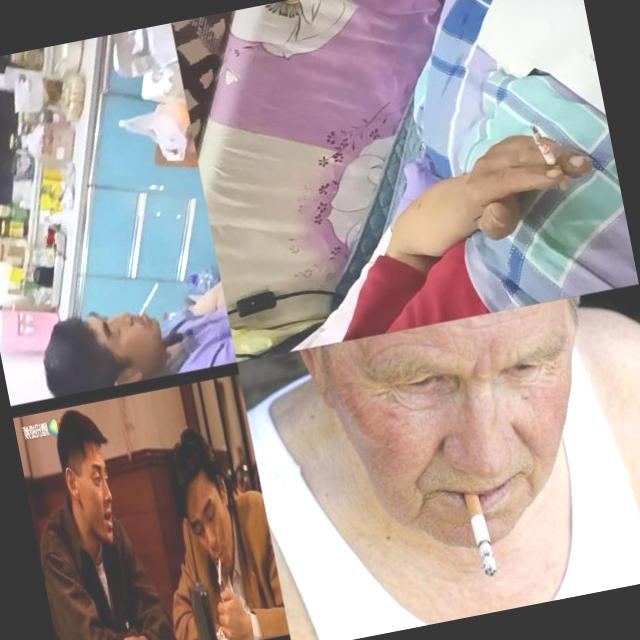smoke: (458, 481, 503, 586), (529, 120, 572, 196), (134, 282, 164, 318), (212, 553, 228, 586)
